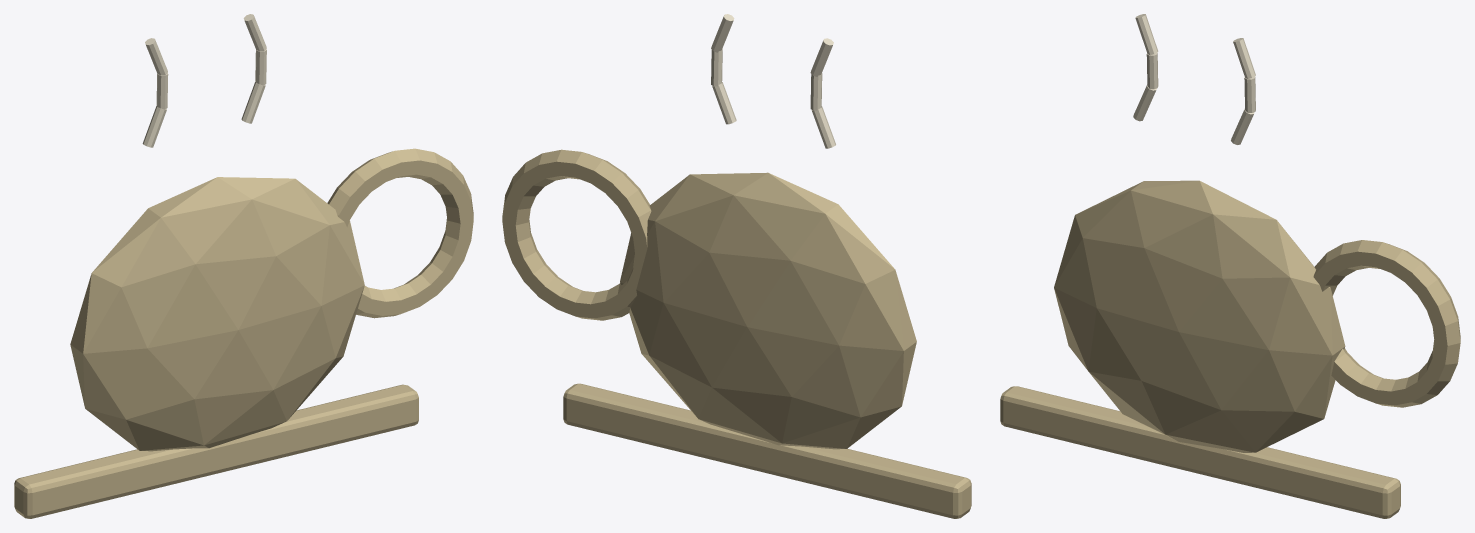
The model's file is time-for-tea.glb.
3 views of the same model, side by side, from view 1: azimuth 30°, elevation 25°; view 2: azimuth 150°, elevation 25°; view 3: azimuth 330°, elevation 25° (orthographic).
Visible parts, largest first — view 1: Tea cup.001, Cup handle.001, Tea steam.006; view 2: Tea cup.001, Cup handle.001, Tea steam.006; view 3: Tea cup.001, Cup handle.001, Tea steam.006.
Part boxes in pixels (x1,y1,x2,y2): Tea cup.001: (70, 177, 364, 451); Cup handle.001: (14, 148, 473, 518); Tea steam.006: (142, 14, 266, 147); Tea cup.001: (620, 172, 916, 449); Cup handle.001: (502, 149, 971, 518); Tea steam.006: (711, 14, 835, 148); Tea cup.001: (1054, 180, 1345, 452); Cup handle.001: (1000, 240, 1460, 518); Tea steam.006: (1133, 14, 1255, 144).
Bounding box in the file's own units: 0.0278 × 0.0257 × 0.0044.
